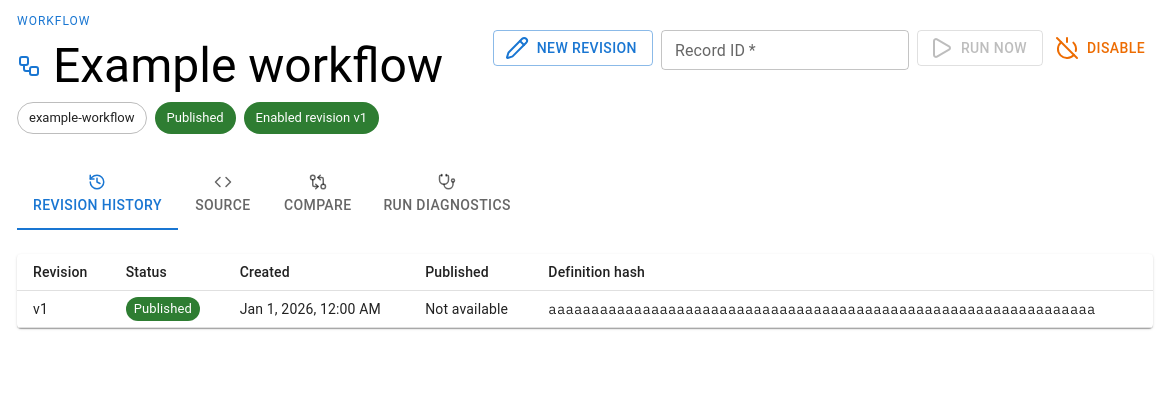
Test case: WorkflowDetailPage › names the record when a manual run cannot find it
The width and height of the screenshot is (1171, 411).
Type "a9175ad1-e2b8-4eb8-9796-643f27f59fcf" into the field named "Manual run record ID".
click(785, 50); type("a9175ad1-e2b8-4eb8-9796-643f27f59fcf")  # box [661, 30, 909, 70]
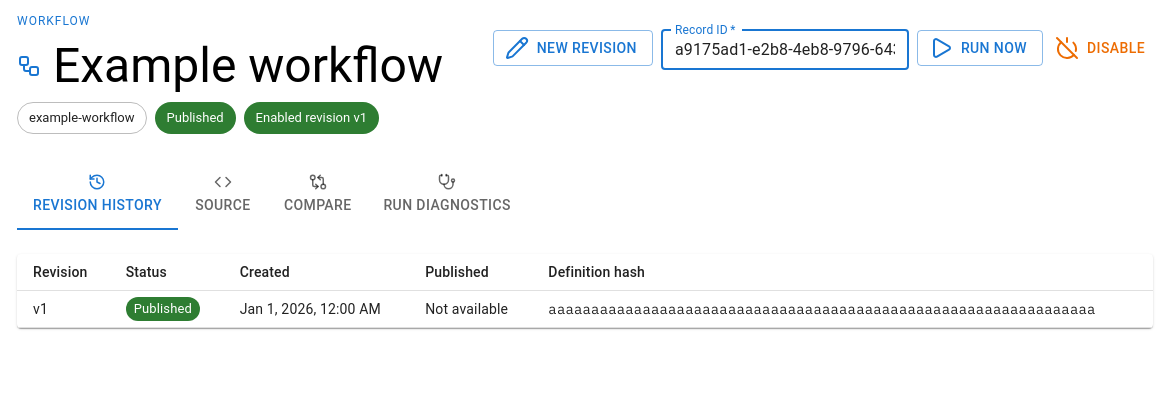
Click the button "Run now".
click(980, 48)  # box [917, 30, 1043, 66]
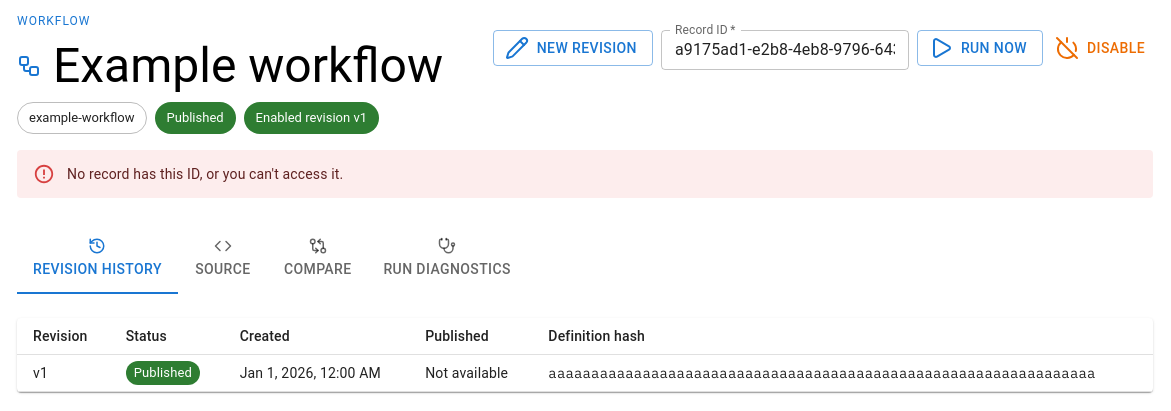
Result: the text "No record has this ID, or you can't access it." is shown at [67, 166, 343, 182]
